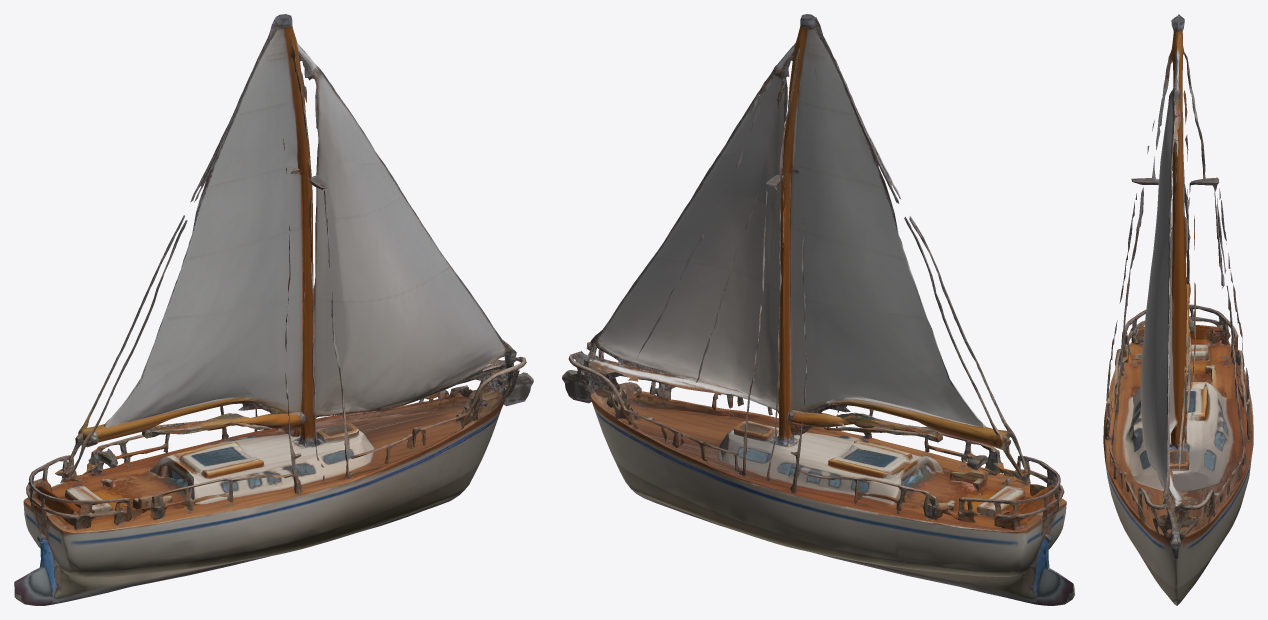
The model's file is boat_sailboat.glb.
3 views of the same model, side by side, from view 1: azimuth 30°, elevation 25°; view 2: azimuth 150°, elevation 25°; view 3: azimuth 270°, elevation 25° (orthographic). The views are drawn at different scales.
Visible parts, largest first — view 1: geometry_0; view 2: geometry_0; view 3: geometry_0.
Boxes of the visible parts, <box> form: geometry_0: <box>14,14,533,605</box>; geometry_0: <box>562,14,1074,605</box>; geometry_0: <box>1103,14,1253,605</box>.
Size of the model in its own units: 10 by 9.98 by 2.62.
1 material, 1 textured.
